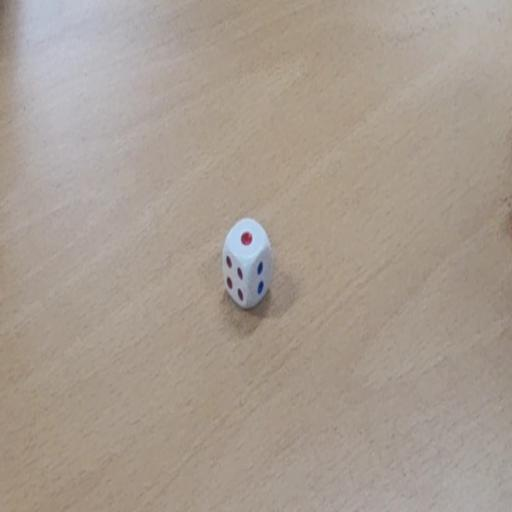dice_1: (221, 216, 275, 312)
